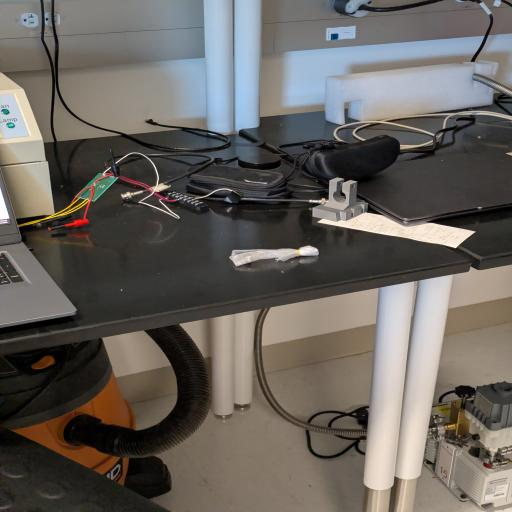rubberband: (228, 245, 321, 268)
